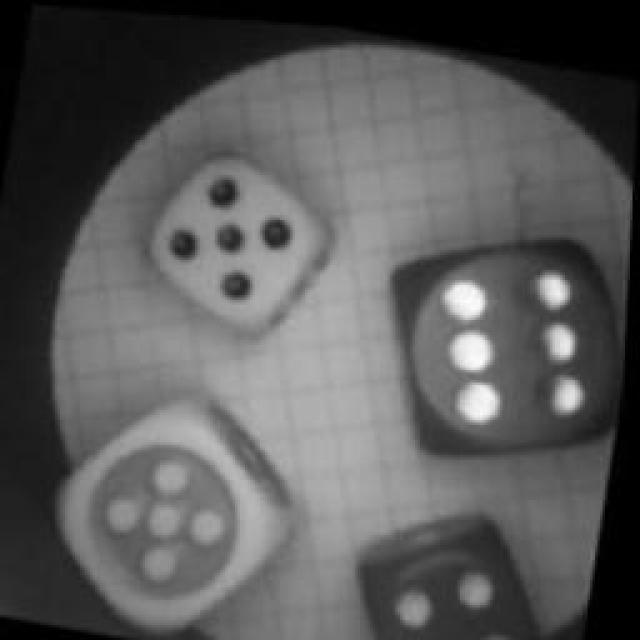dice_4: (342, 490, 578, 640)
dice_5: (40, 370, 312, 640), (129, 136, 346, 344)
dice_6: (365, 205, 633, 470)
